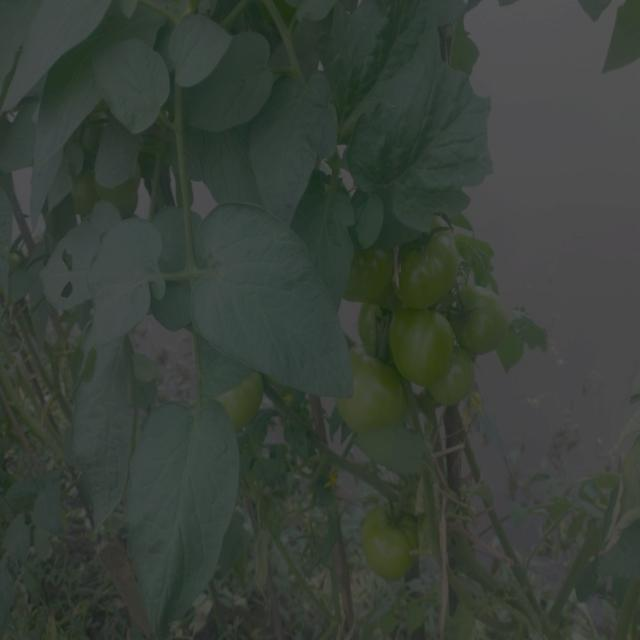tomato: (383, 304, 457, 382), (395, 234, 467, 304), (349, 353, 411, 425), (363, 502, 417, 580), (419, 348, 490, 405), (457, 285, 505, 350), (221, 370, 267, 433), (343, 249, 389, 304), (359, 313, 384, 357)
